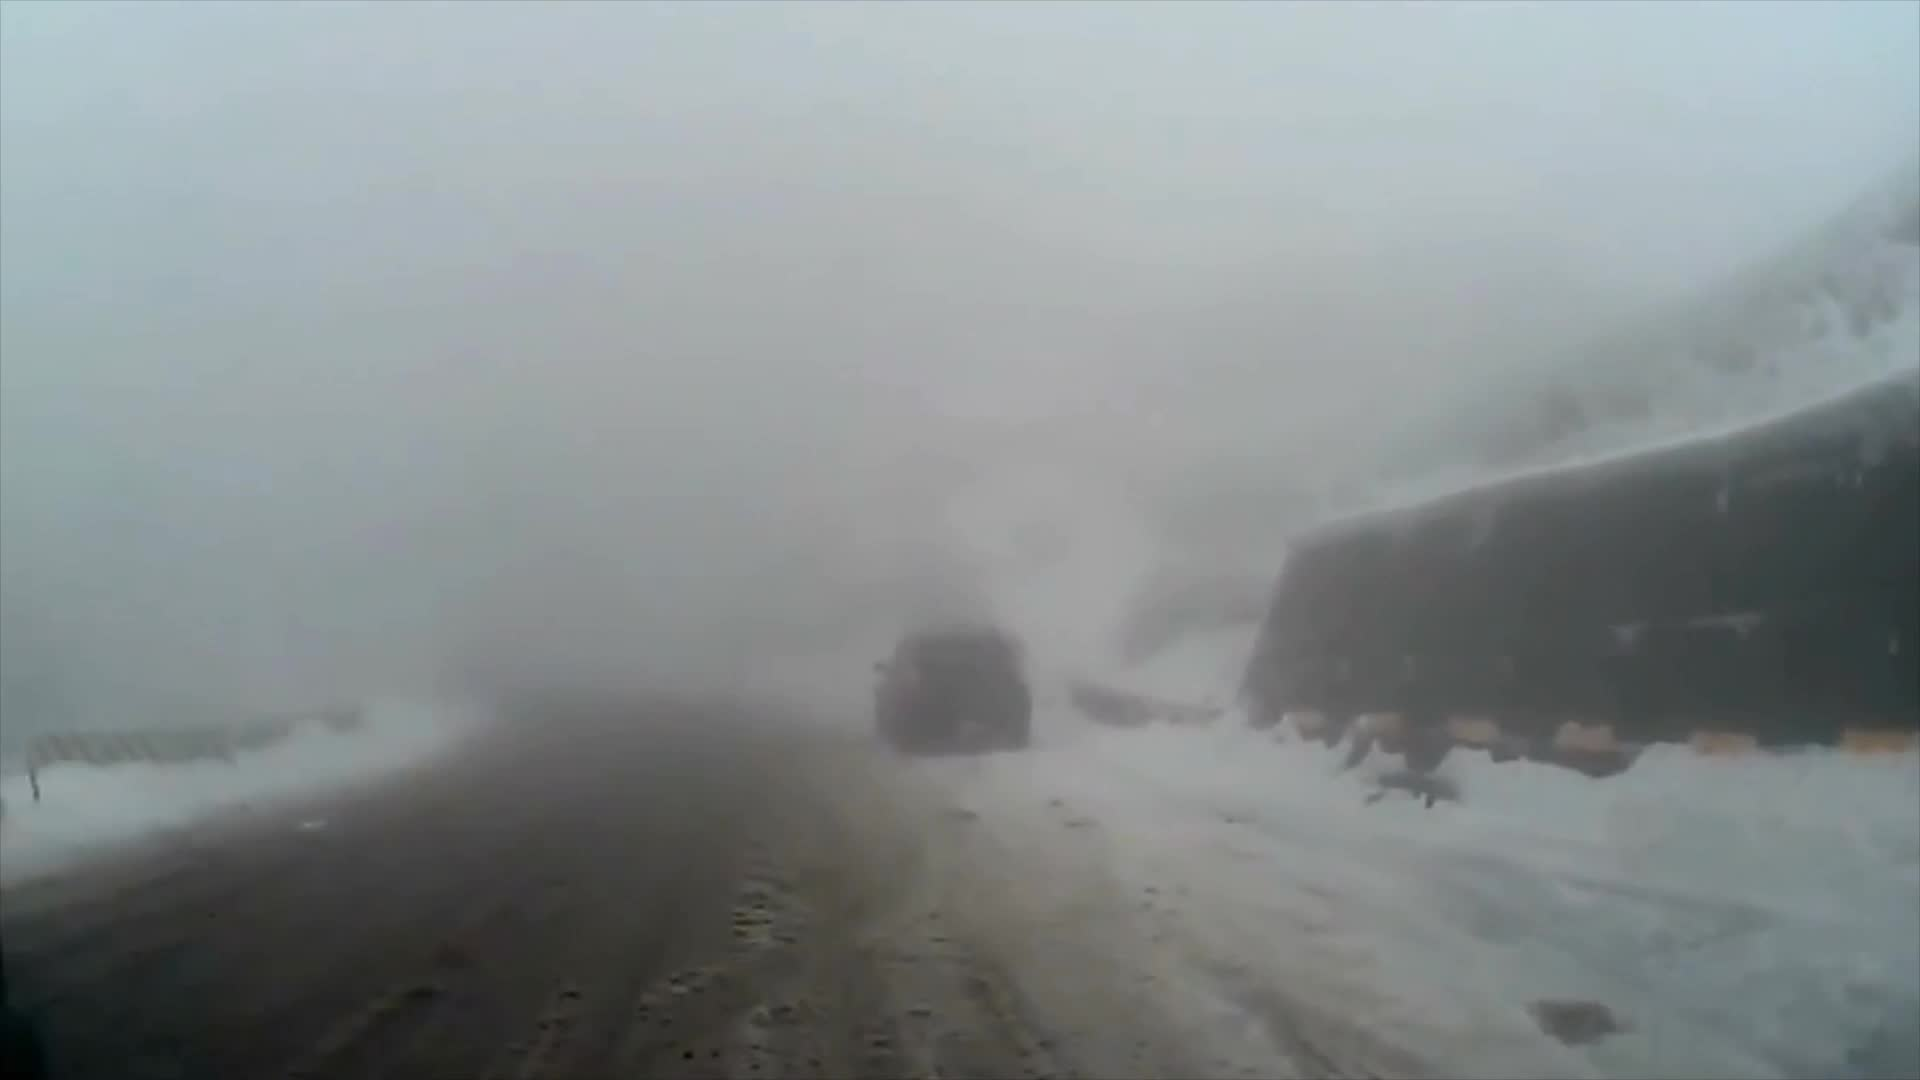vehicle: (866, 616, 1029, 753)
